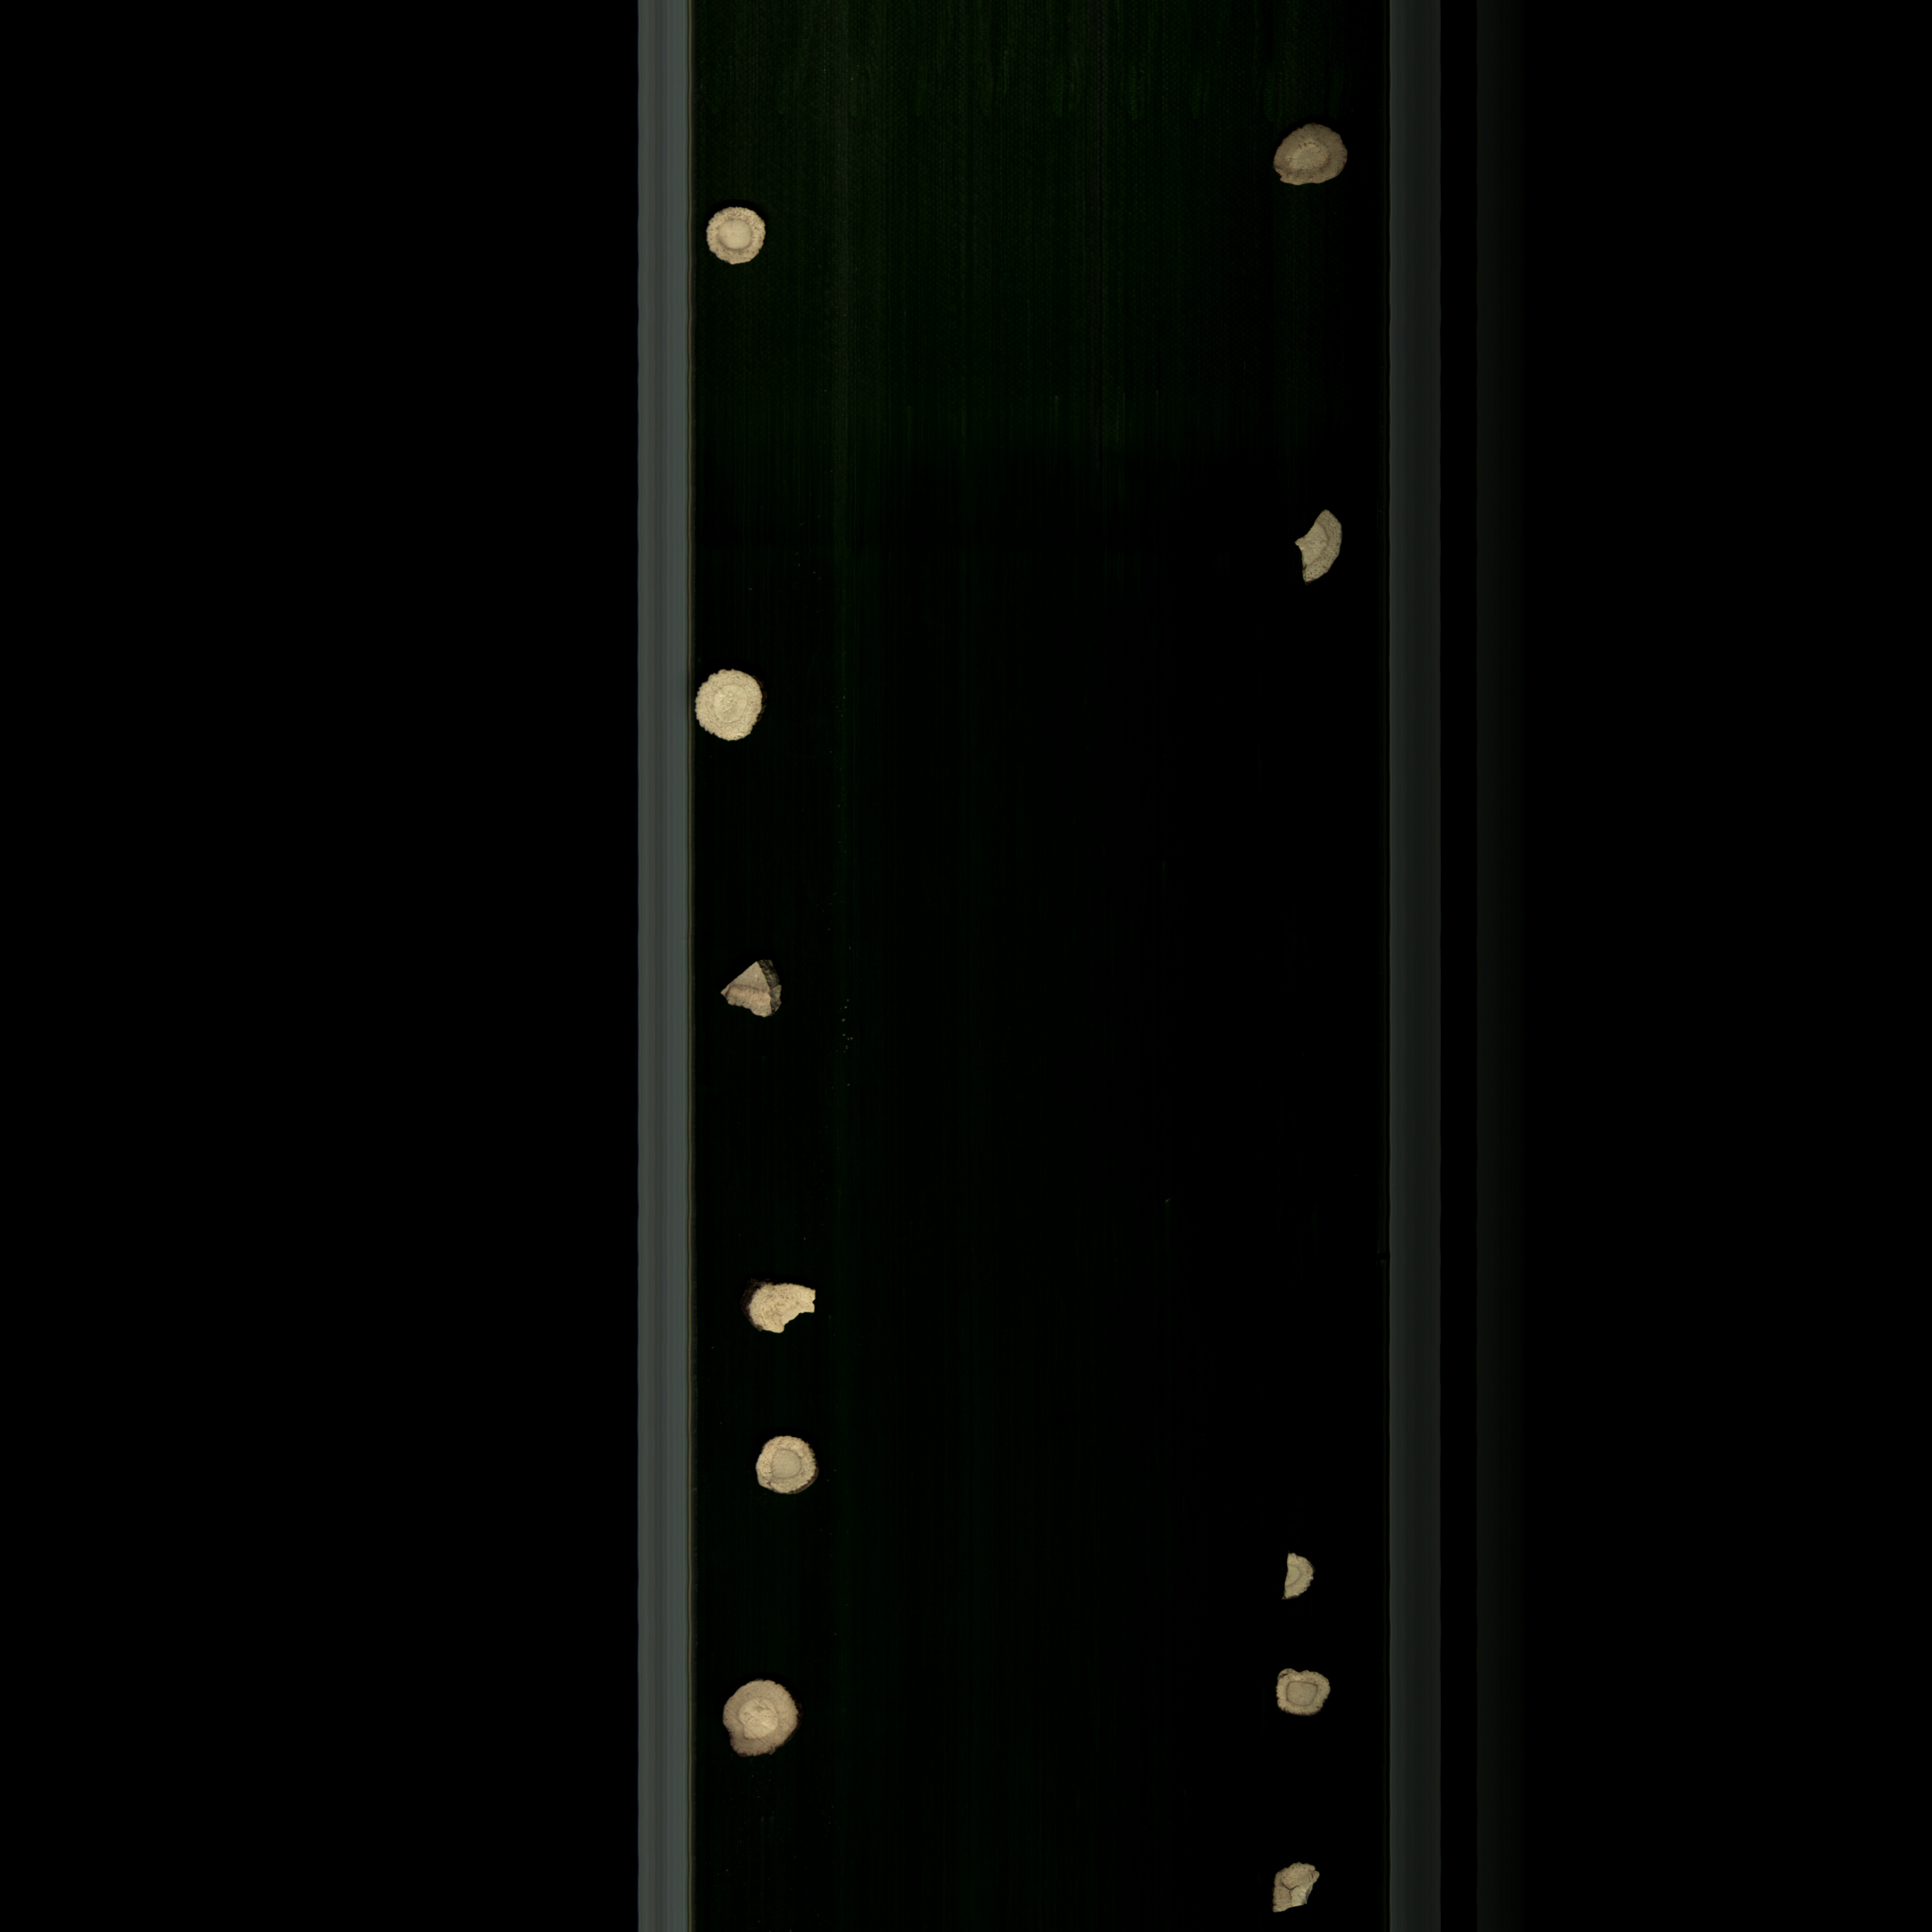debris: (732, 1274, 835, 1341), (1281, 499, 1348, 600), (1261, 1858, 1329, 1920)
distortion: (713, 1674, 816, 1769), (713, 954, 787, 1033)
dreg: (1276, 1541, 1322, 1619)
moldy: (694, 196, 782, 280), (1261, 122, 1353, 188), (1272, 1661, 1346, 1730)
